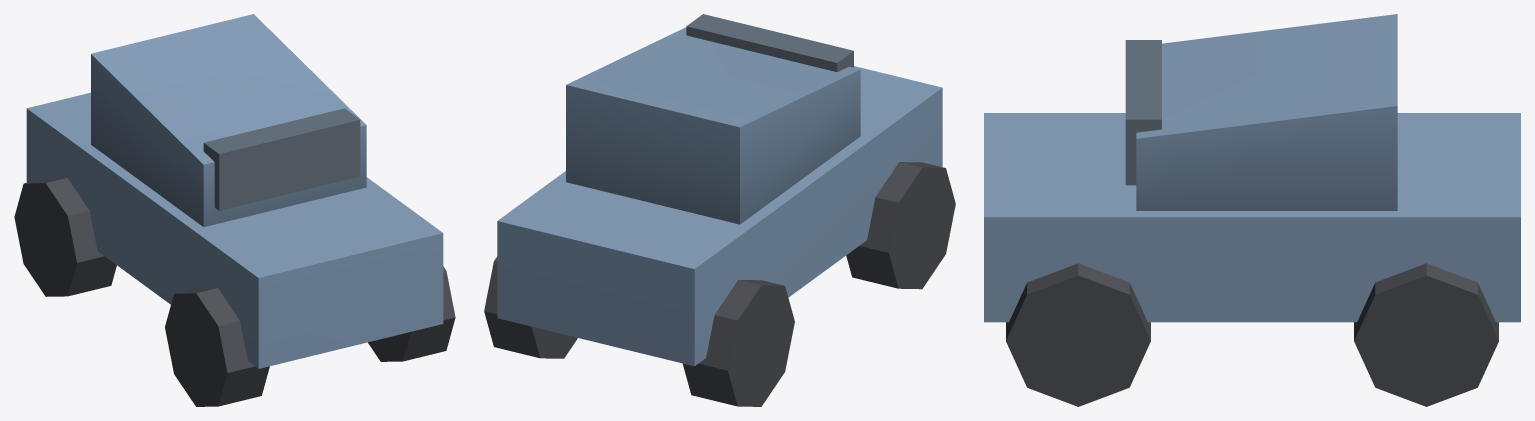
Rendered from veh_sedan.glb.
3 views of the same model, side by side, from view 1: azimuth 30°, elevation 25°; view 2: azimuth 150°, elevation 25°; view 3: azimuth 270°, elevation 25° (orthographic). The views are drawn at different scales.
Parts seen in each view (by area): view 1: veh_sedan; view 2: veh_sedan; view 3: veh_sedan.
Boxes of the visible parts, x1=… form: veh_sedan: x1=14, y1=14, x2=455, y2=406; veh_sedan: x1=484, y1=14, x2=955, y2=406; veh_sedan: x1=984, y1=14, x2=1520, y2=406.
Size of the model in its own units: 0.42 by 0.43 by 0.74.
